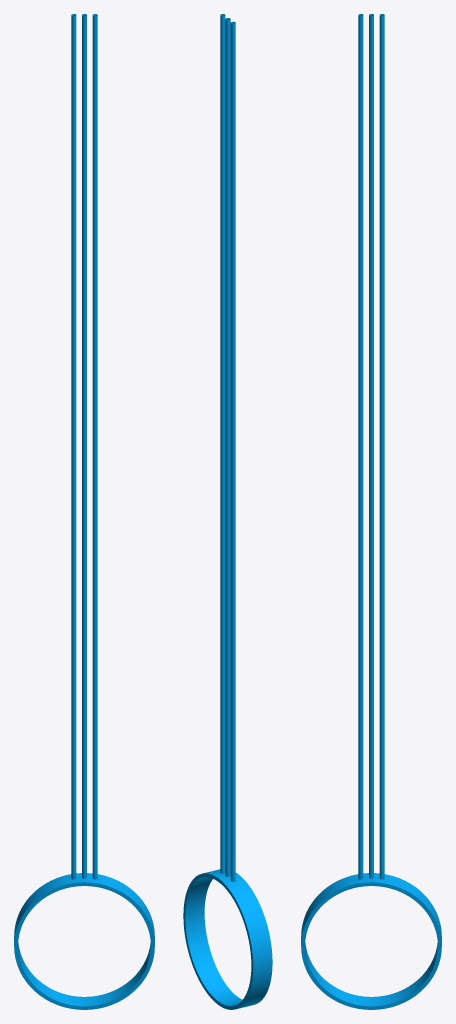
The model's file is cutter4_circle.fbx.
The picture shows the model from 3 angles, left to right: view 1: azimuth 90°, elevation 25°; view 2: azimuth 210°, elevation 25°; view 3: azimuth 270°, elevation 25°; orthographic projection.
Parts seen in each view (by area): view 1: Cutter4_Circle; view 2: Cutter4_Circle; view 3: Cutter4_Circle.
Boxes of the visible parts, bbox=[...] form: Cutter4_Circle: bbox=[14, 14, 154, 1009]; Cutter4_Circle: bbox=[183, 14, 272, 1009]; Cutter4_Circle: bbox=[301, 14, 441, 1009].
Size of the model in its own units: 16.84 by 823 by 106.
